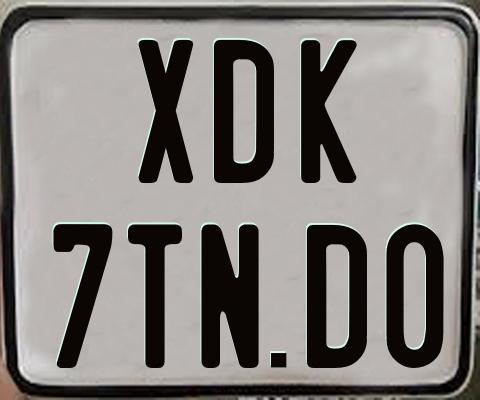0: (383, 223, 442, 369)
7: (52, 224, 112, 368)
D: (304, 223, 366, 368), (214, 40, 274, 186)
K: (300, 40, 358, 188)
N: (198, 223, 258, 371)
T: (126, 223, 184, 370)
X: (136, 38, 193, 183)
